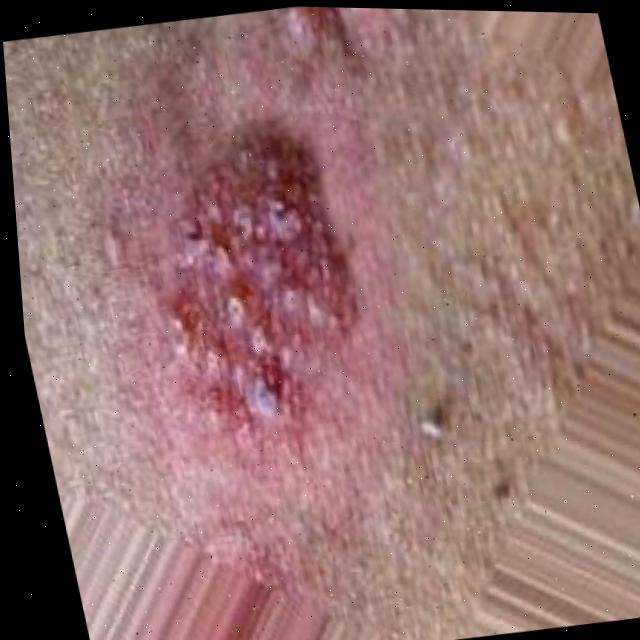Shingles: (144, 129, 381, 436), (272, 6, 362, 69)
